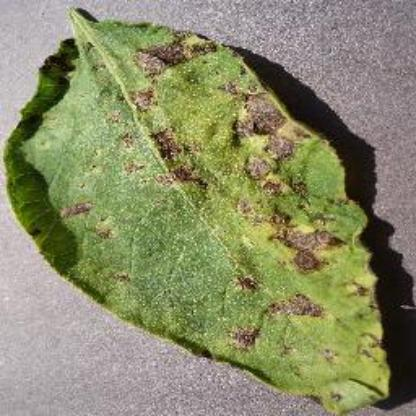Early-Blight: (5, 8, 393, 408)
